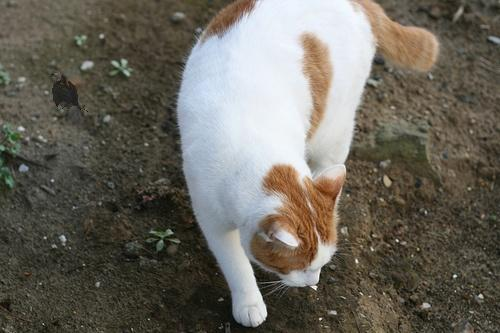tampered: (52, 74, 106, 112)
